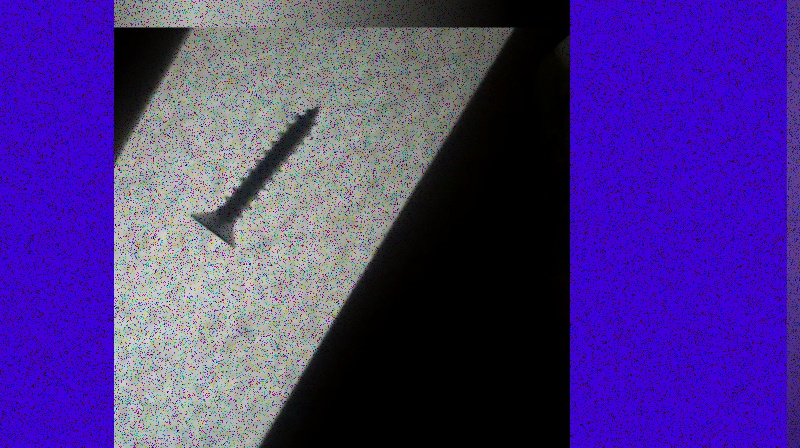S001: (185, 100, 322, 250)
